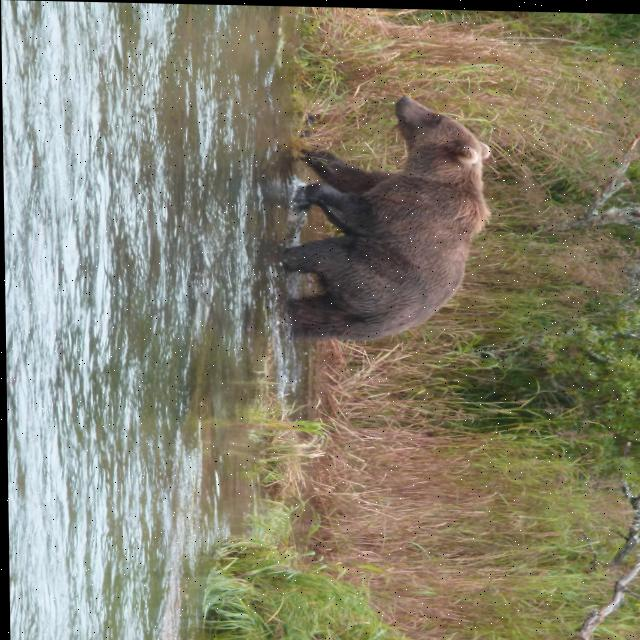bear face: (284, 89, 491, 332)
